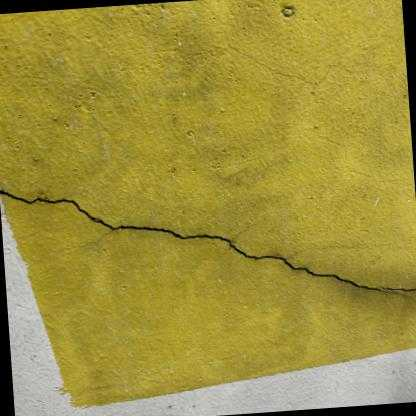crack: (0, 190, 416, 292)
